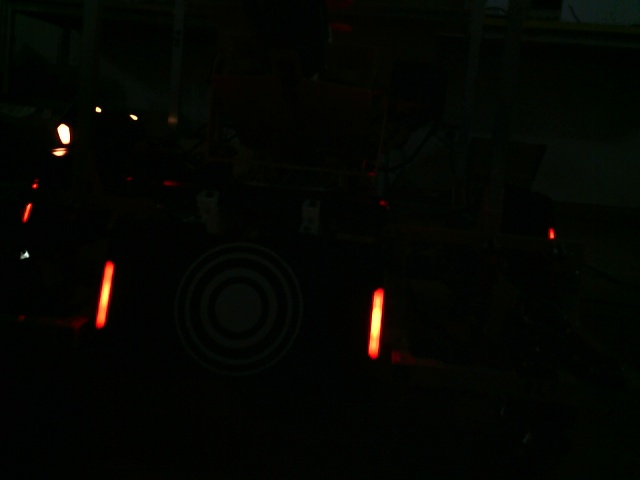lamp: (362, 285, 387, 362), (94, 253, 116, 336)
